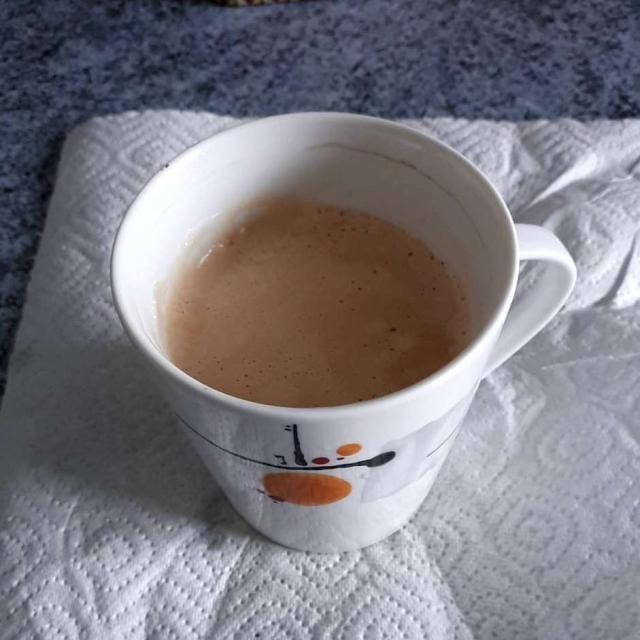coffee: (164, 202, 473, 398)
